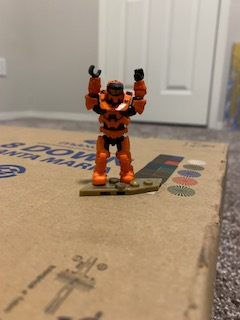spartan: (84, 63, 147, 186)
up: (84, 64, 150, 132)
